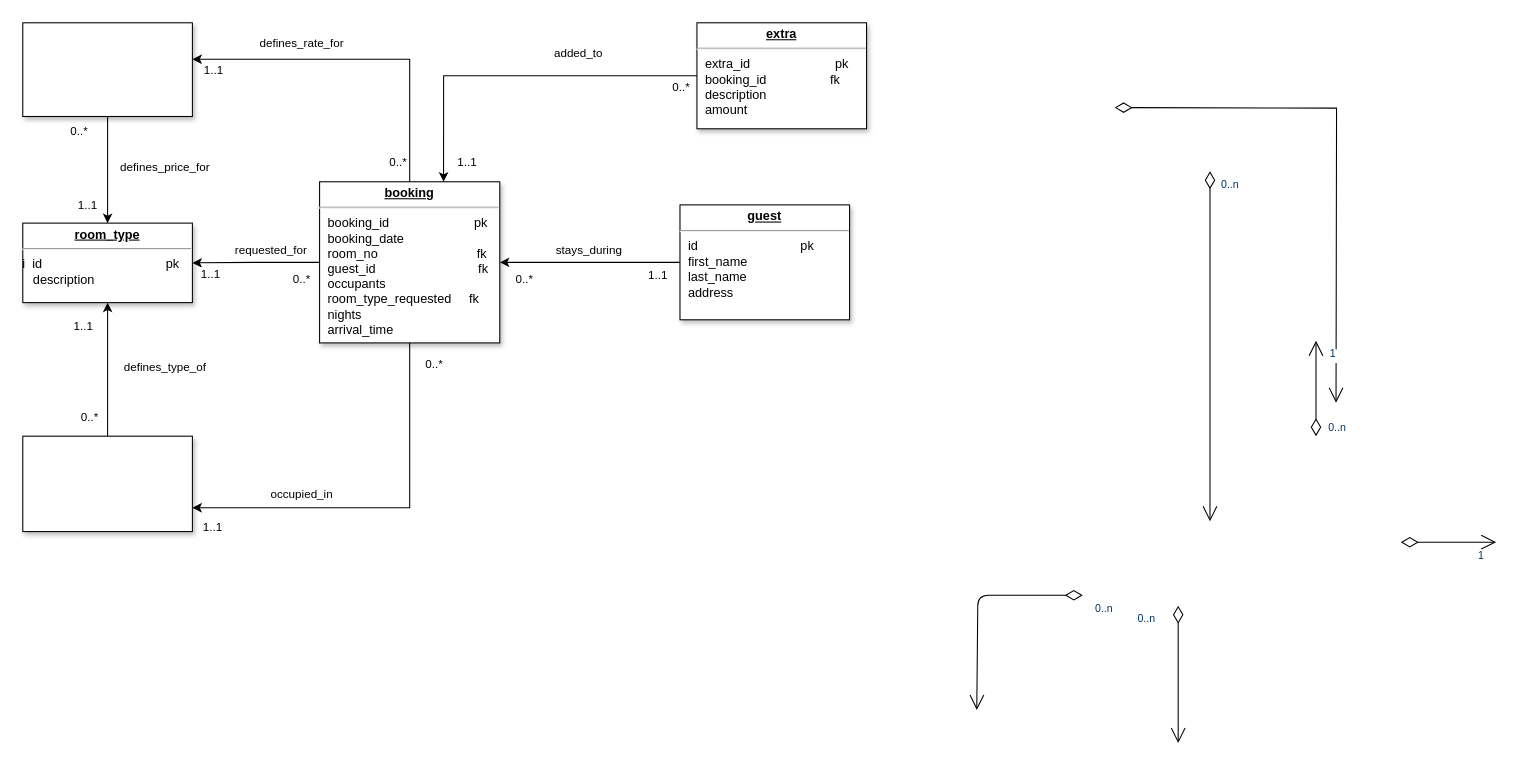
This 1533x780 diagram has some shape labels left out. The shapes that lost their labels are listed below. From the top down, each one's centre as x and y in pixels, then its label:
At (x=108, y=70): "rate room_type pk,fk occupancy pk amount".
At (x=108, y=485): "room i id pk room_type fk , max_occupancy".
